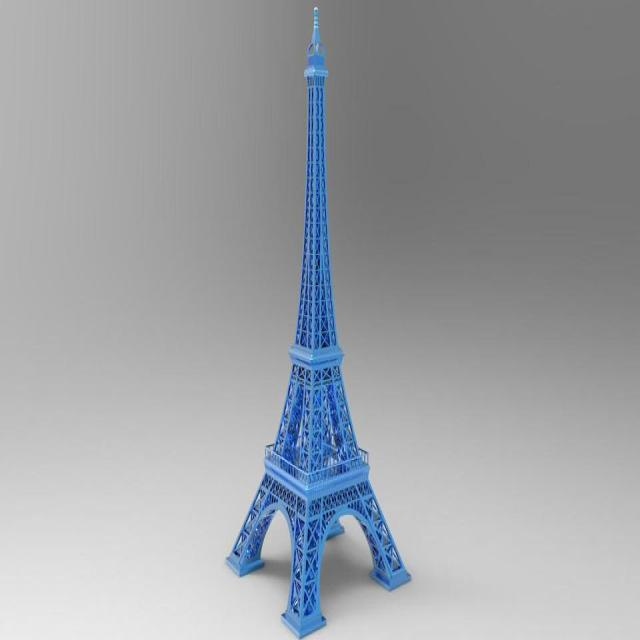Without deffect: (225, 1, 424, 612)
